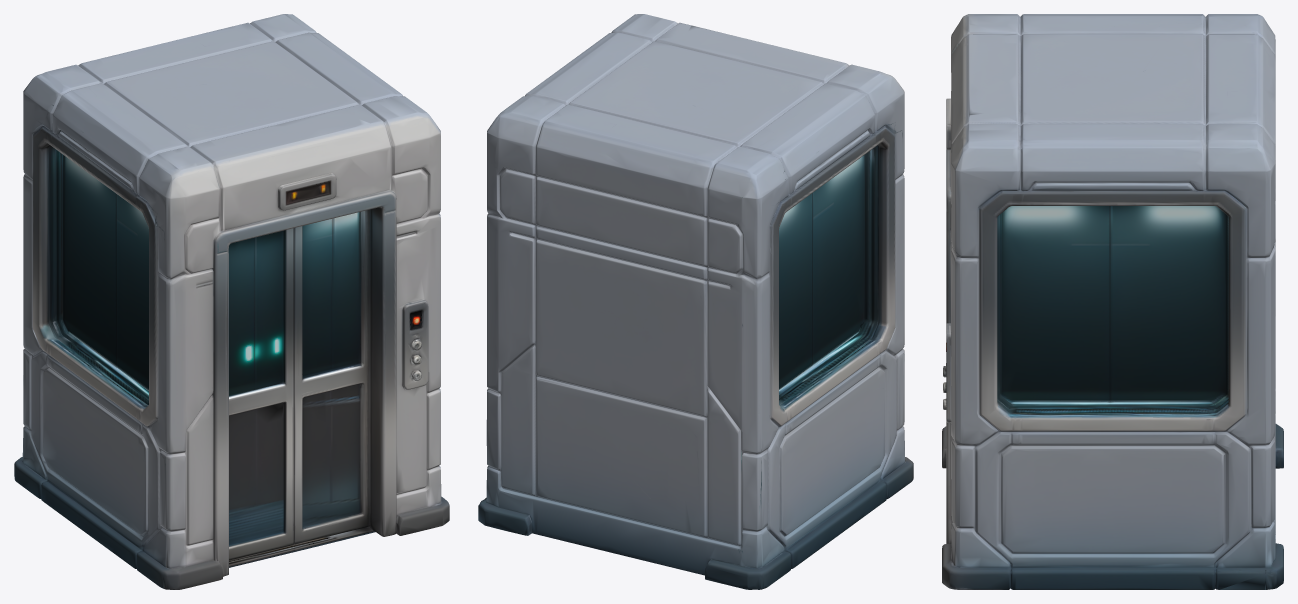
Rendered from elevator.glb.
3 renders of one model, left to right at view 1: azimuth 30°, elevation 25°; view 2: azimuth 150°, elevation 25°; view 3: azimuth 270°, elevation 25°, orthographic. The views are drawn at different scales.
Parts seen in each view (by area): view 1: node_0; view 2: node_0; view 3: node_0.
Part boxes in pixels (box(x1,y1,x2,y2)): node_0: box(14, 14, 449, 589); node_0: box(478, 14, 913, 589); node_0: box(942, 14, 1283, 589).
Bounding box in the file's own units: 0.632 × 0.8585 × 0.6061.
Materials: 1 (1 with a texture image).
